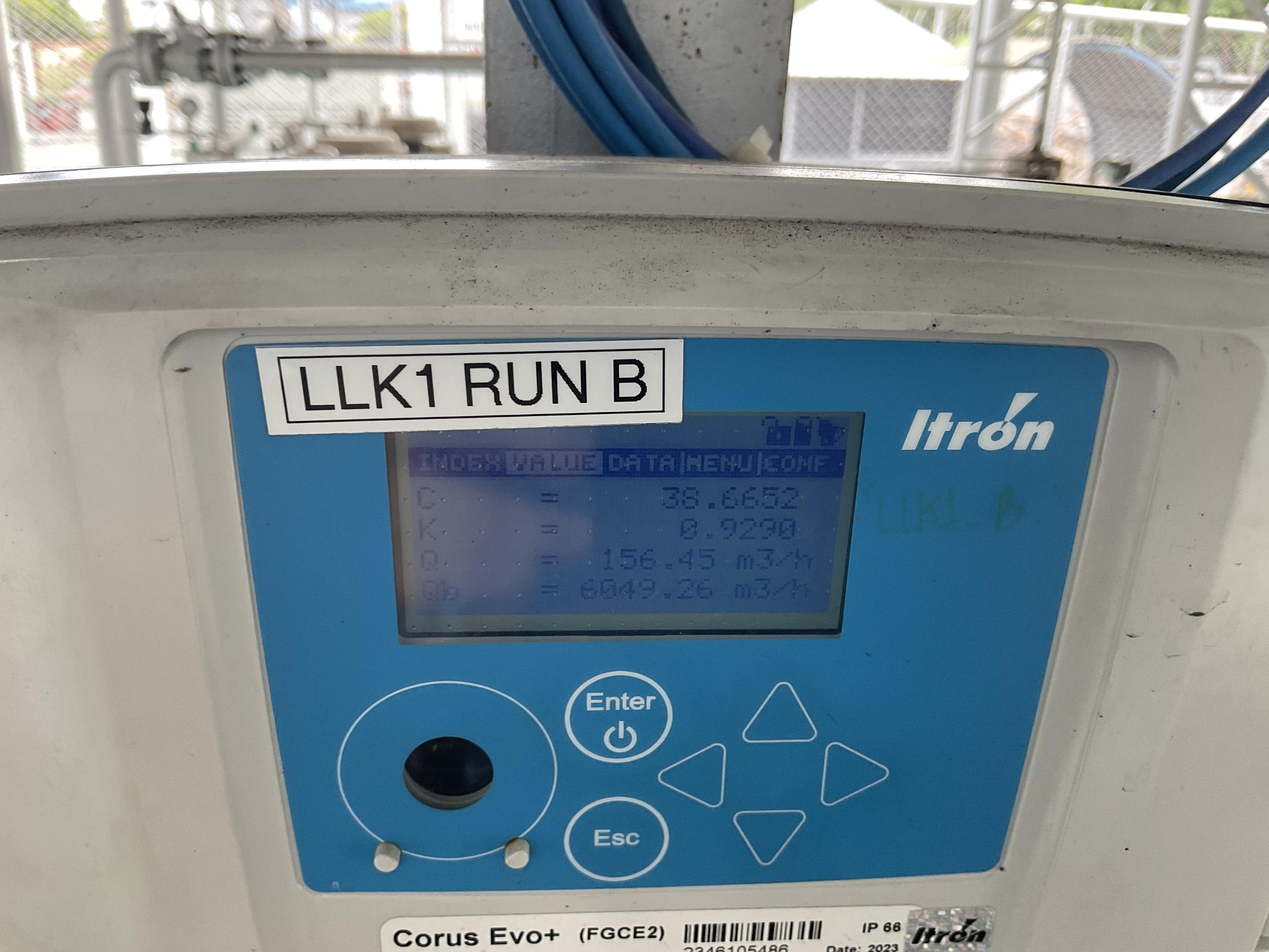digital_screen: (387, 412, 866, 645)
